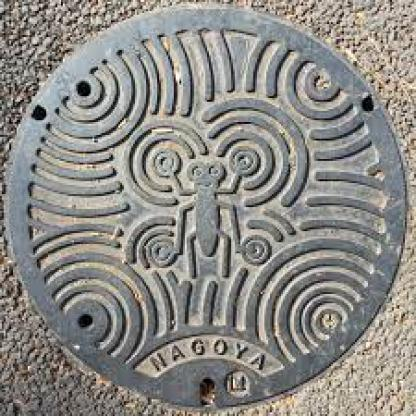closed manhole-not overflowing-: (0, 0, 412, 397)
